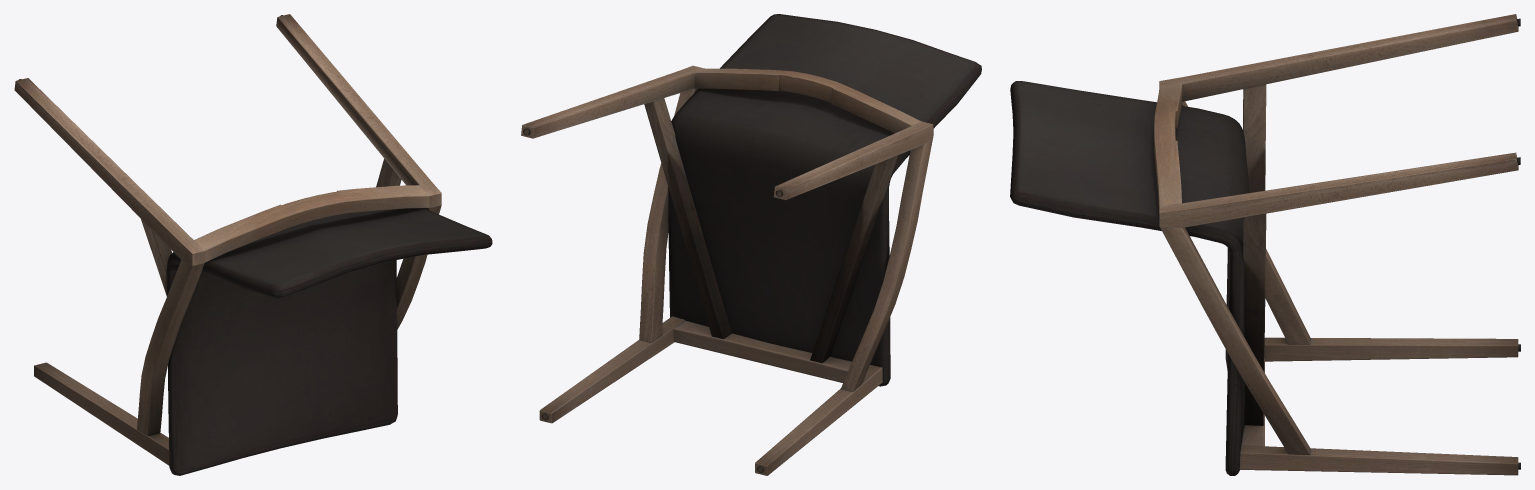
Rendered from raw_model.glb.
3 renders of one model, left to right at view 1: azimuth 30°, elevation 25°; view 2: azimuth 150°, elevation 25°; view 3: azimuth 270°, elevation 25°, orthographic. The views are drawn at different scales.
Parts seen in each view (by area): view 1: raw_model.017; view 2: raw_model.017; view 3: raw_model.017.
Boxes of the visible parts, x1,y1,x2,y2 form: raw_model.017: (14, 14, 492, 475); raw_model.017: (521, 14, 981, 475); raw_model.017: (1010, 14, 1520, 475).
Bounding box in the file's own units: 0.5227 × 0.5582 × 0.7764.
Materials: 1 (1 with a texture image).
